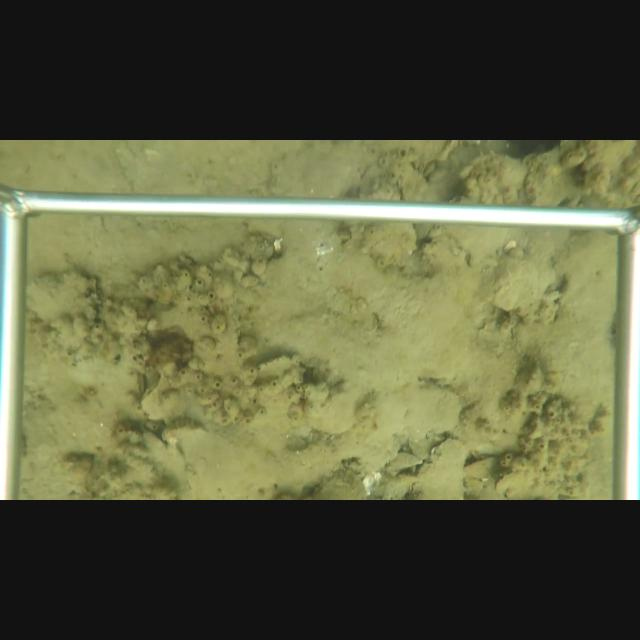Oyster-Closed: (27, 270, 102, 356), (365, 375, 463, 439), (407, 434, 471, 499), (492, 251, 558, 312), (359, 224, 420, 269), (137, 378, 169, 425), (494, 469, 537, 497)
